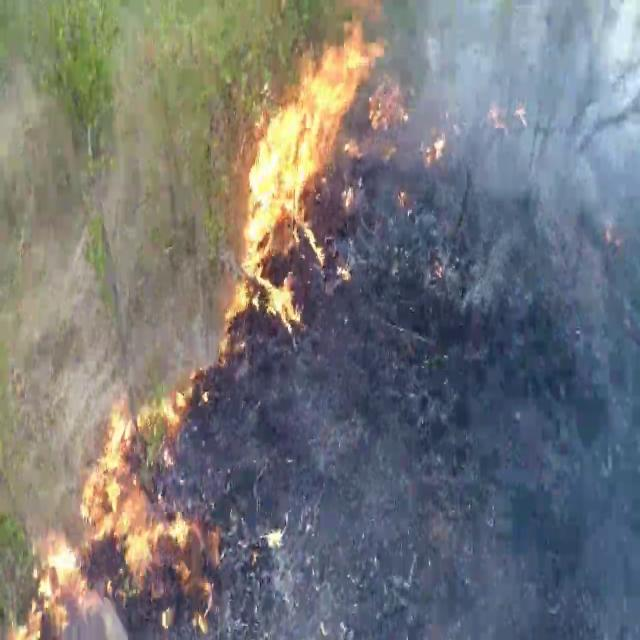Fire: (220, 7, 398, 328), (28, 376, 214, 628)
Smoke: (404, 0, 640, 632), (0, 0, 242, 390)
